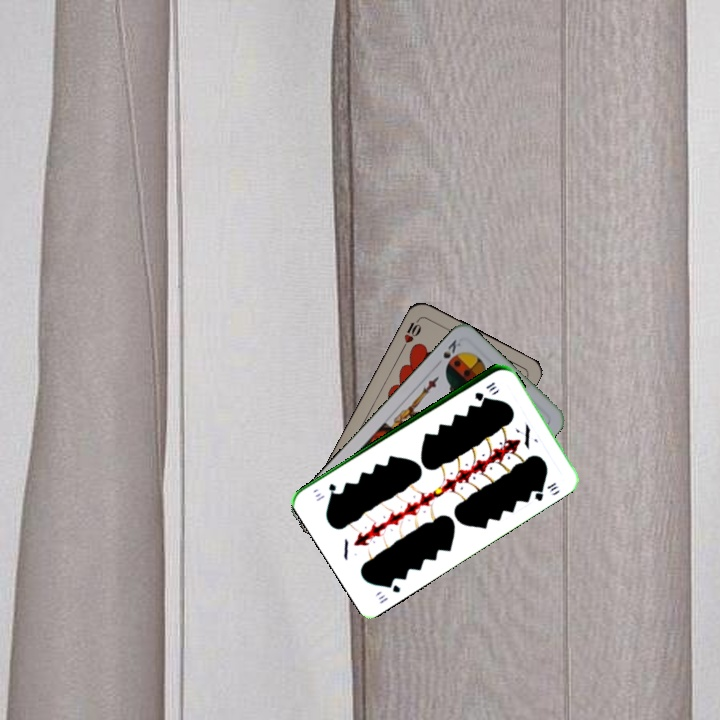G10: (374, 577, 403, 606), (471, 378, 499, 402)
H10: (398, 314, 424, 352)
SK: (439, 335, 463, 371)
